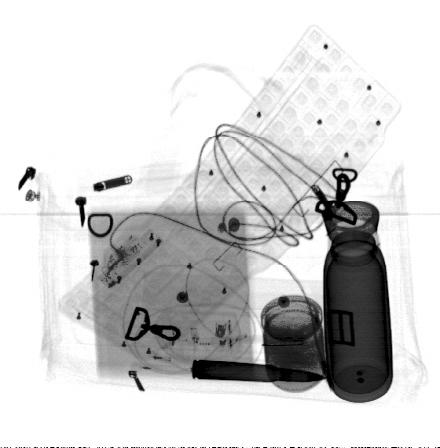Bullet: (190, 359, 329, 384)
